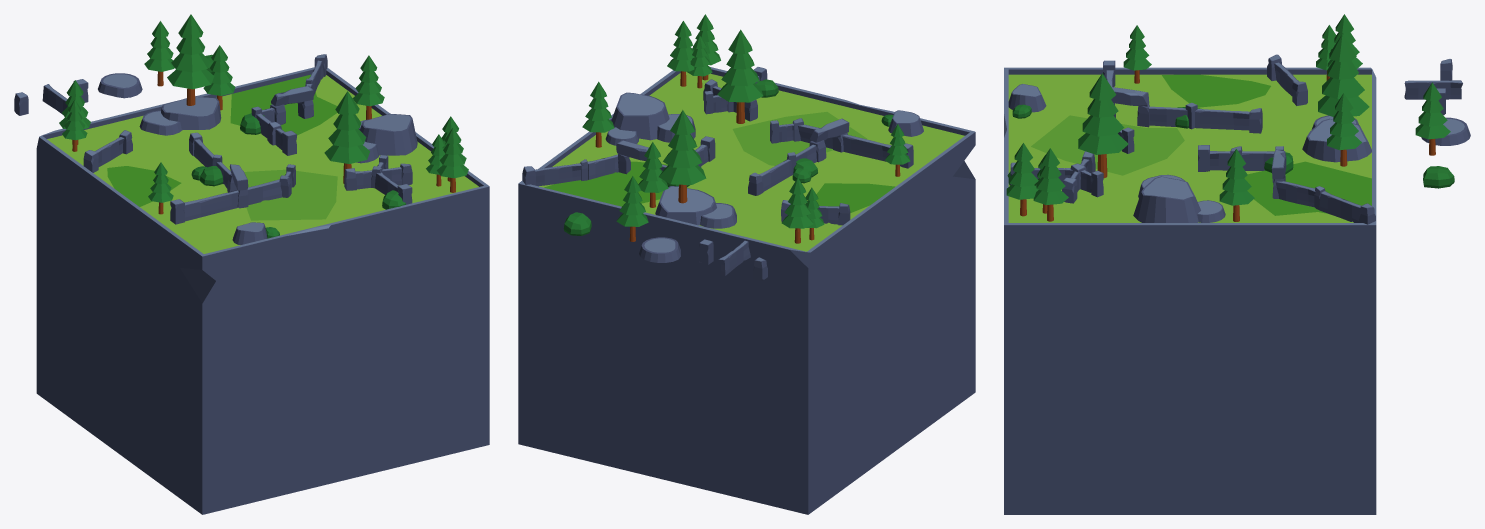
File: Map1.glb
3 renders of one model, left to right at view 1: azimuth 30°, elevation 25°; view 2: azimuth 150°, elevation 25°; view 3: azimuth 270°, elevation 25°, orthographic. The views are drawn at different scales.
Visible parts, largest first — view 1: Plane.001-col, Ground-col, Plane.005, Plane.004, Plane.002, Wall.002-col, Plane.003, Big Rock.001-col, Big Rock-col, Circle.017, Cone.013, Cone.041 (+4 smaller); view 2: Plane.001-col, Ground-col, Plane.005, Plane.002, Plane.004, Plane.003, Big Rock.001-col, Wall.002-col, Circle.017, Circle.019, Wall.010-col, Wall.009-col (+9 smaller); view 3: Plane.001-col, Ground-col, Plane.005, Plane.004, Plane.002, Plane.003, Big Rock.001-col, Wall.009-col, Big Rock-col, Cone.041, Wall.004-col, Circle.019 (+8 smaller).
Part boxes in pixels (x1,y1,x2,y2): Plane.001-col: (36, 69, 489, 514); Ground-col: (47, 75, 478, 253); Plane.005: (244, 169, 337, 220); Plane.004: (230, 74, 337, 135); Plane.002: (39, 67, 489, 256); Wall.002-col: (184, 179, 282, 221); Plane.003: (107, 166, 181, 206); Big Rock.001-col: (360, 113, 417, 155); Big Rock-col: (161, 96, 221, 129); Circle.017: (163, 97, 217, 116); Cone.013: (167, 69, 214, 89); Cone.041: (324, 144, 369, 163); Plane.001-col: (518, 69, 975, 514); Ground-col: (539, 71, 964, 251); Plane.005: (732, 112, 866, 165); Plane.002: (518, 67, 974, 252); Plane.004: (544, 161, 667, 206); Plane.003: (816, 183, 895, 212); Big Rock.001-col: (611, 92, 669, 140); Wall.002-col: (798, 124, 891, 161); Circle.017: (661, 186, 713, 211); Circle.019: (618, 93, 663, 115); Wall.010-col: (535, 163, 583, 186); Wall.009-col: (759, 146, 816, 191); Plane.001-col: (1004, 69, 1376, 514); Ground-col: (1008, 74, 1371, 222); Plane.005: (1031, 115, 1184, 175); Plane.004: (1244, 161, 1371, 215); Plane.002: (1004, 67, 1376, 224); Plane.003: (1162, 74, 1270, 107); Big Rock.001-col: (1133, 176, 1200, 222); Wall.009-col: (1149, 108, 1249, 130); Big Rock-col: (1302, 118, 1371, 162); Cone.041: (1078, 133, 1128, 154); Wall.004-col: (1210, 151, 1274, 170); Circle.019: (1143, 177, 1192, 199).
Size of the model in its own units: 62.03 by 73.56 by 77.78.
